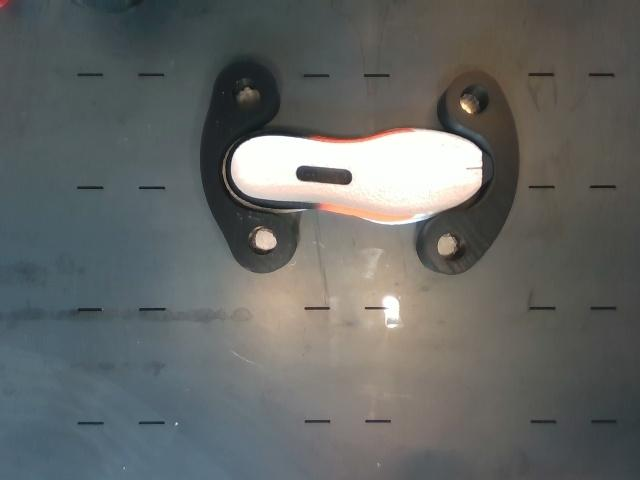shoes: (231, 131, 492, 215)
